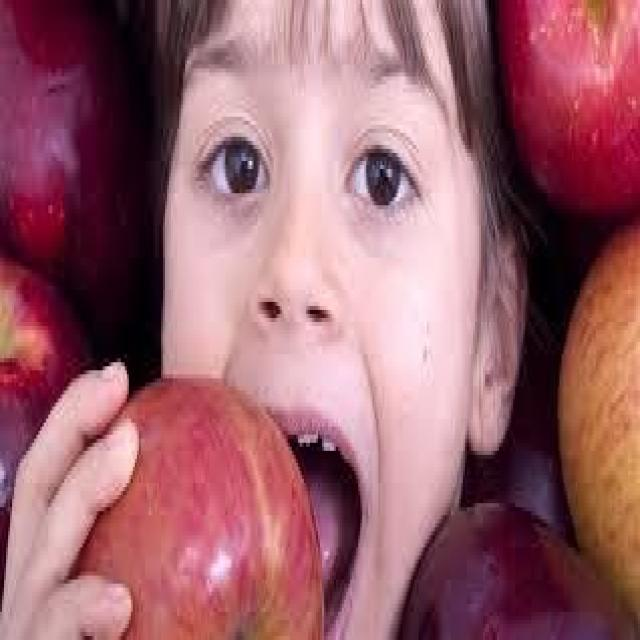maca: (68, 370, 324, 636)
